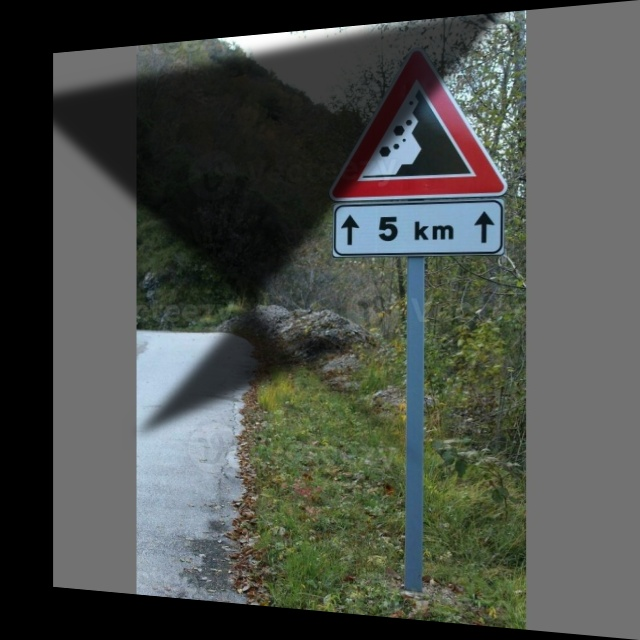Falling_Rocks: (329, 43, 505, 201)
